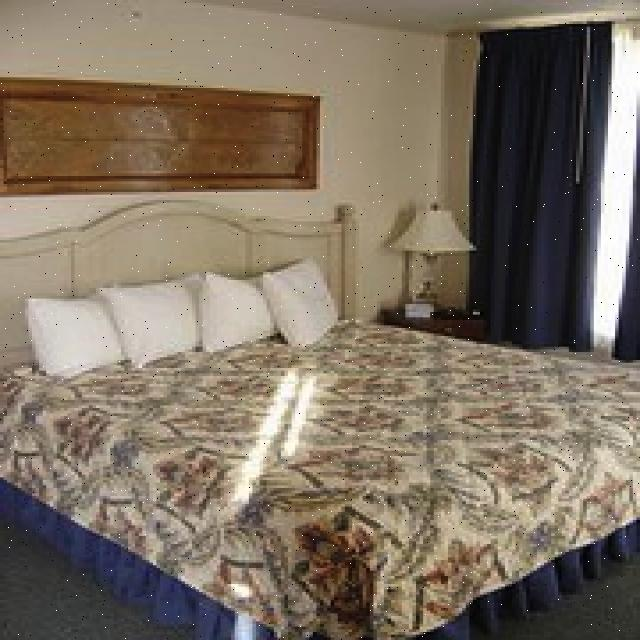bed: (0, 253, 640, 636)
